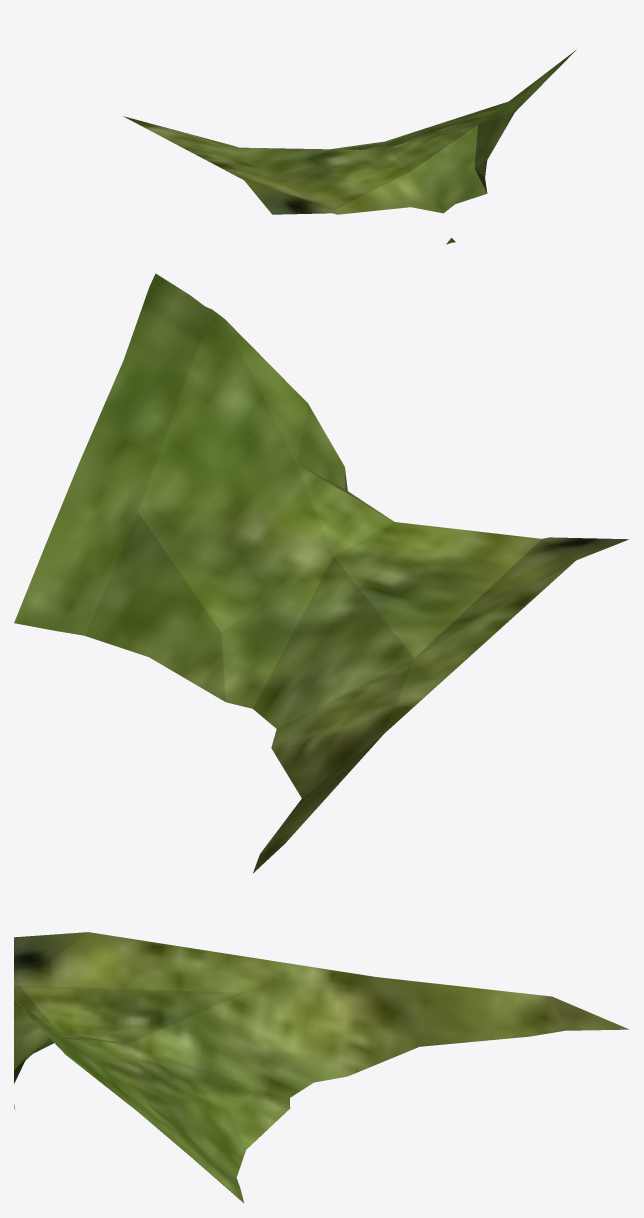
3 views of the same model, one above another, from view 1: azimuth 30°, elevation 25°; view 2: azimuth 150°, elevation 25°; view 3: azimuth 270°, elevation 25° (orthographic). The views are drawn at different scales.
Bounding box in the file's own units: 4.31 × 2.14 × 5.96.
Materials: 1 (1 with a texture image).
